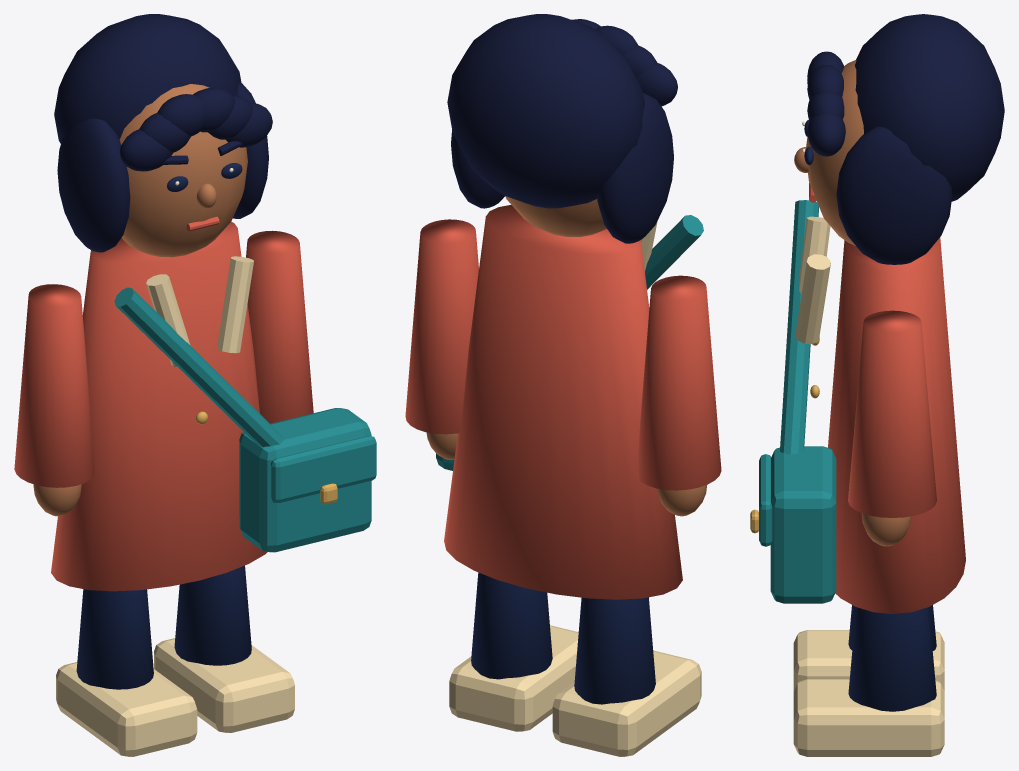
Rendered from ari.glb.
3 views of the same model, side by side, from view 1: azimuth 30°, elevation 25°; view 2: azimuth 150°, elevation 25°; view 3: azimuth 270°, elevation 25° (orthographic). The views are drawn at different scales.
Visible parts, largest first — view 1: Long coral coat, Bob silhouette, Sleeve, Turquoise satchel, Face, Sleeve.001, Cream shoe, Cream shoe.001, Bob side, Trouser, Trouser.001, Satchel strap (+11 smaller); view 2: Long coral coat, Bob silhouette, Sleeve, Sleeve.001, Cream shoe, Trouser, Trouser.001, Cream shoe.001, Bob side, Face, Satchel strap, Bob side.001 (+5 smaller); view 3: Long coral coat, Bob silhouette, Sleeve.001, Bob side.001, Turquoise satchel, Cream shoe.001, Trouser.001, Satchel strap, Face, Cream shoe, Lapel.001, Swept fringe.005 (+7 smaller).
Boxes of the visible parts, box(x1,y1,x2,y2) form: Long coral coat: box(51, 221, 267, 591); Bob silhouette: box(54, 14, 241, 143); Sleeve: box(14, 284, 94, 487); Turquoise satchel: box(239, 408, 371, 552); Face: box(119, 84, 247, 257); Sleeve.001: box(246, 230, 313, 423); Cream shoe: box(56, 662, 197, 756); Cream shoe.001: box(154, 638, 294, 732); Bob side: box(57, 118, 130, 252); Trouser: box(76, 589, 153, 689); Trouser.001: box(174, 565, 251, 665); Satchel strap: box(114, 287, 283, 446); Long coral coat: box(444, 205, 682, 599); Bob silhouette: box(447, 14, 644, 208); Sleeve: box(637, 275, 721, 490); Sleeve.001: box(405, 219, 478, 434); Cream shoe: box(552, 650, 701, 756); Trouser: box(574, 597, 655, 704); Trouser.001: box(471, 572, 552, 679); Cream shoe.001: box(449, 625, 578, 731); Bob side: box(597, 93, 673, 243); Face: box(505, 196, 606, 236); Satchel strap: box(645, 215, 703, 289); Bob side.001: box(451, 130, 504, 208); Long coral coat: box(828, 237, 965, 613); Bob silhouette: box(855, 14, 1004, 201); Sleeve.001: box(848, 310, 936, 517); Bob side.001: box(836, 126, 952, 264); Turquoise satchel: box(770, 446, 836, 603); Cream shoe.001: box(793, 679, 944, 756); Trouser.001: box(848, 607, 936, 711); Satchel strap: box(780, 200, 818, 454); Face: box(806, 60, 863, 245); Cream shoe: box(793, 630, 944, 691); Lapel.001: box(795, 254, 830, 343); Swept fringe.005: box(807, 114, 845, 156).
Bounding box in the file's own units: 0.91 × 1.98 × 0.6575.
